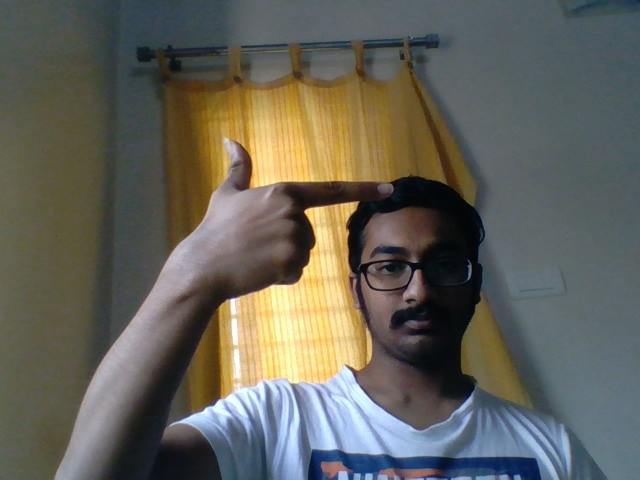yes: (139, 111, 403, 331)
